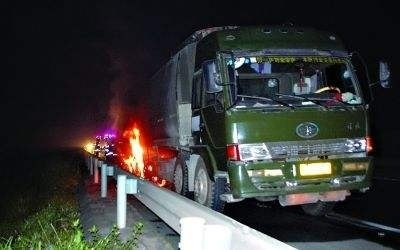fire: (82, 123, 153, 175)
